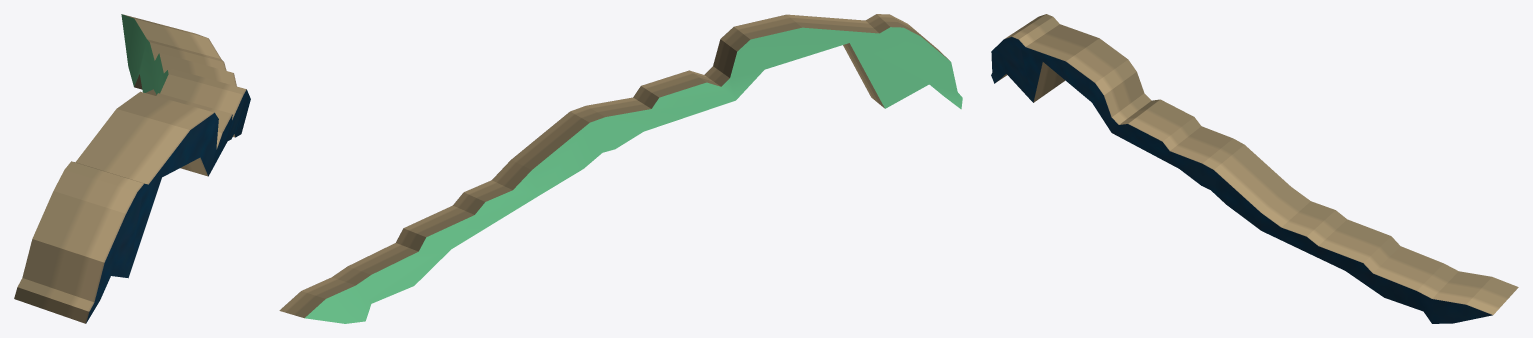
File: 05f9_Chile.glb
3 views of the same model, side by side, from view 1: azimuth 30°, elevation 25°; view 2: azimuth 150°, elevation 25°; view 3: azimuth 270°, elevation 25° (orthographic). The views are drawn at different scales.
Visible parts, largest first — view 1: part_0; view 2: part_0; view 3: part_0.
Boxes of the visible parts, x1,y1,x2,y2 form: part_0: (14, 14, 250, 323); part_0: (279, 14, 962, 323); part_0: (991, 14, 1518, 323).
Size of the model in its own units: 1.63 by 0.7905 by 2.15.
Materials: 1 (1 with a texture image).
